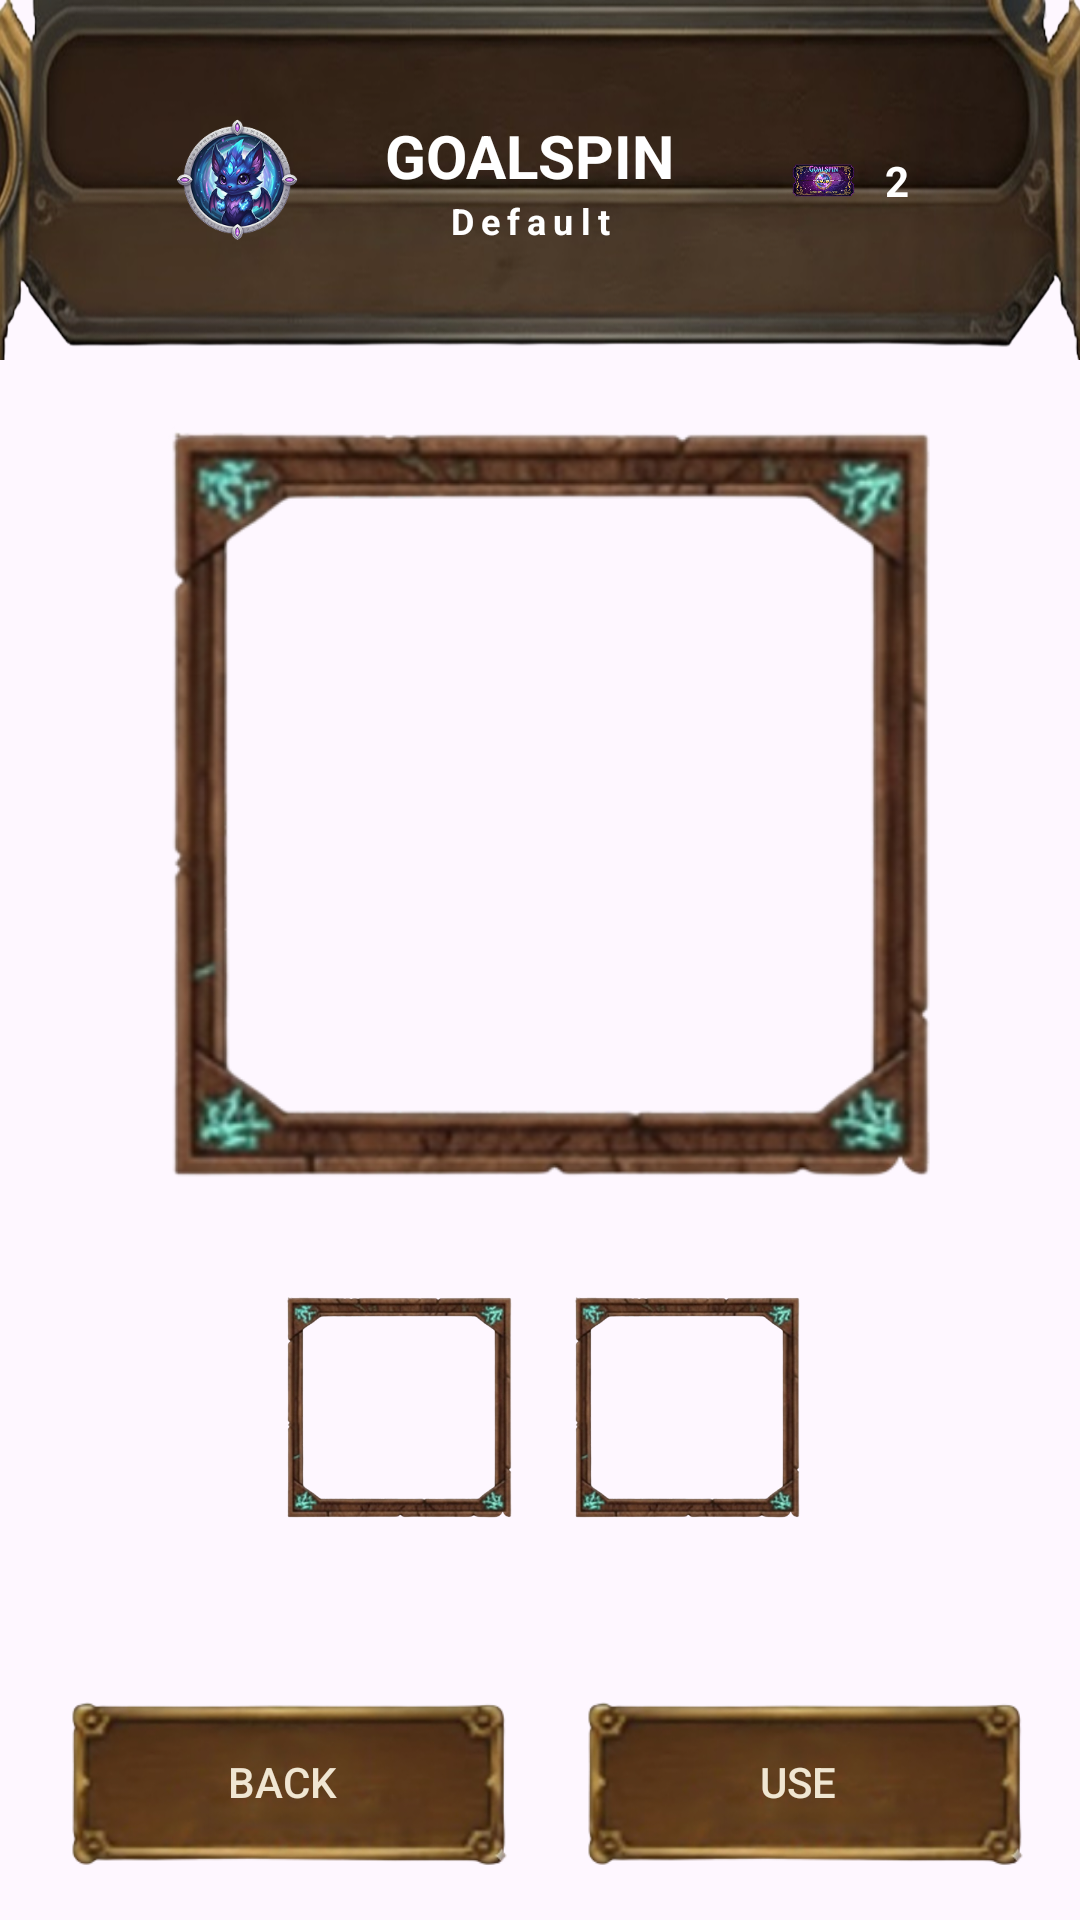

Icon click points for this 1080x1920 phone screenshot, format (x=x, y=y):
proflie: (x=237, y=186)
ticket: (x=823, y=181)
